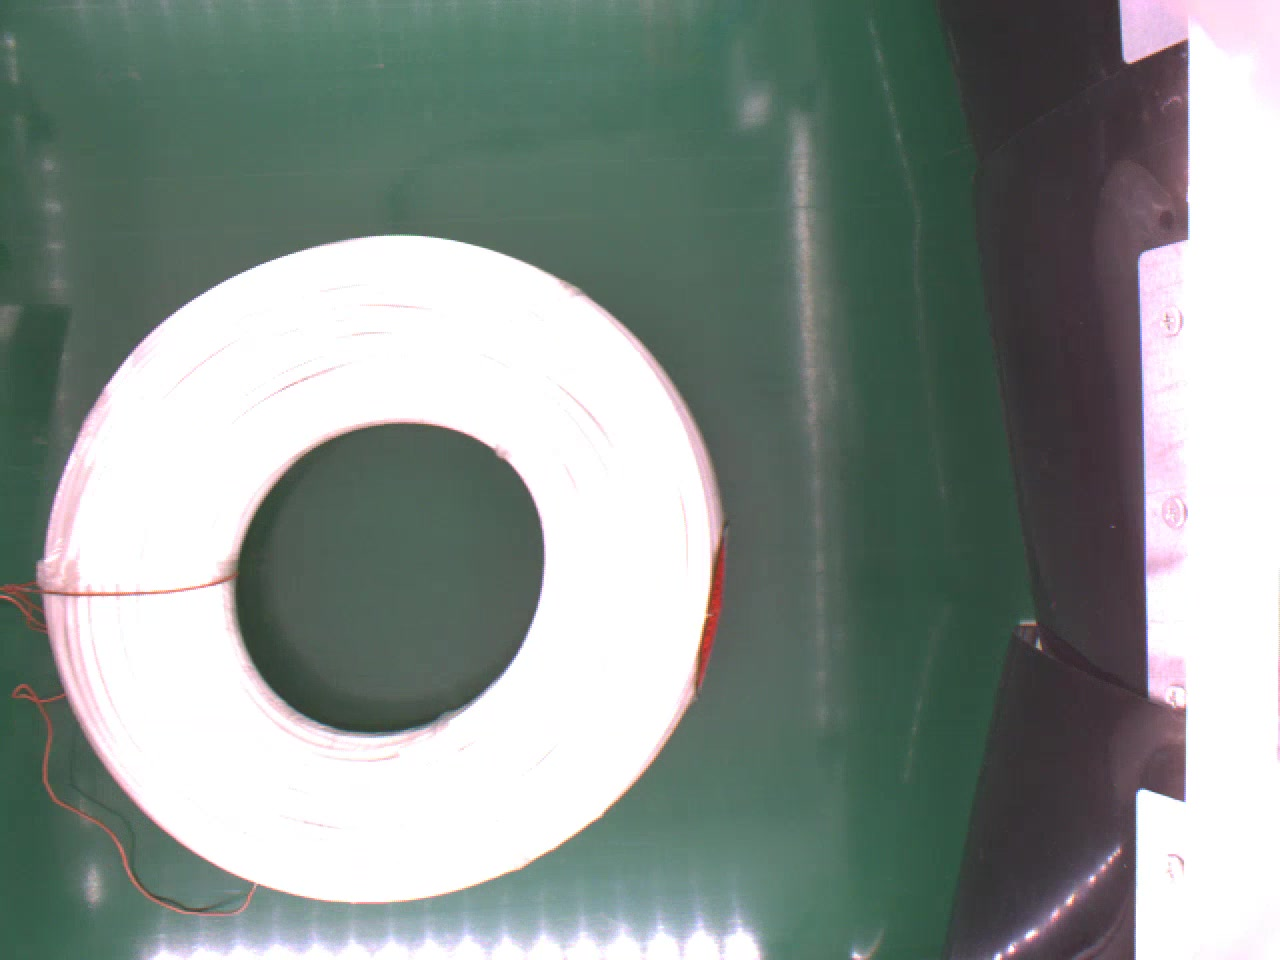white: (36, 221, 739, 904)
